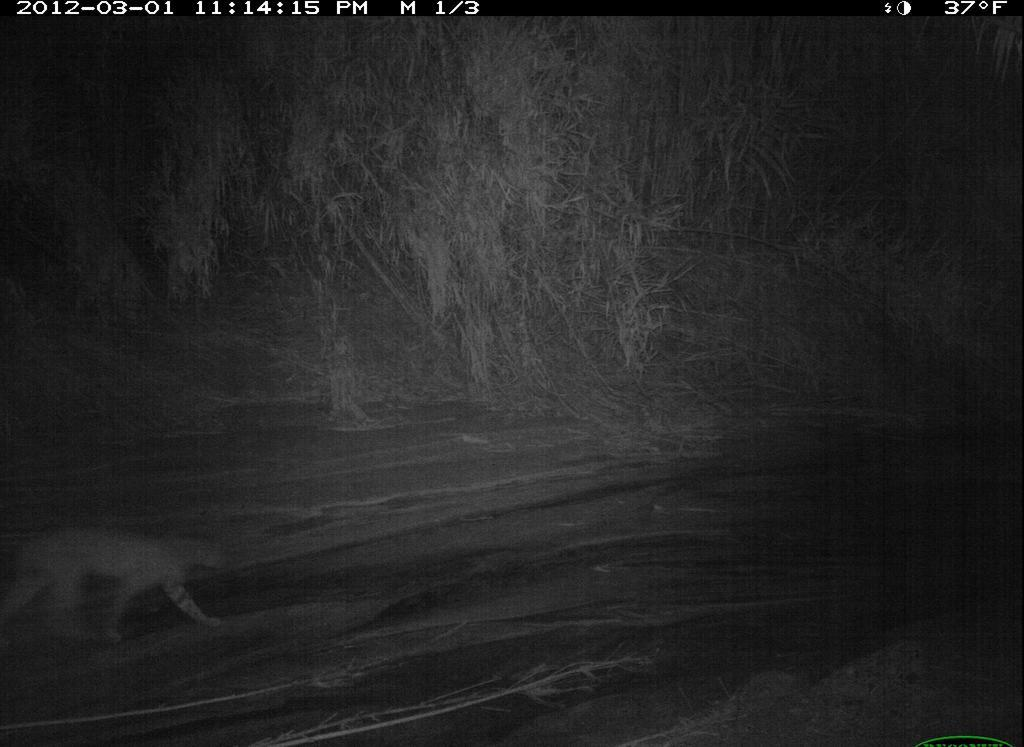bobcat: (1, 513, 248, 655)
